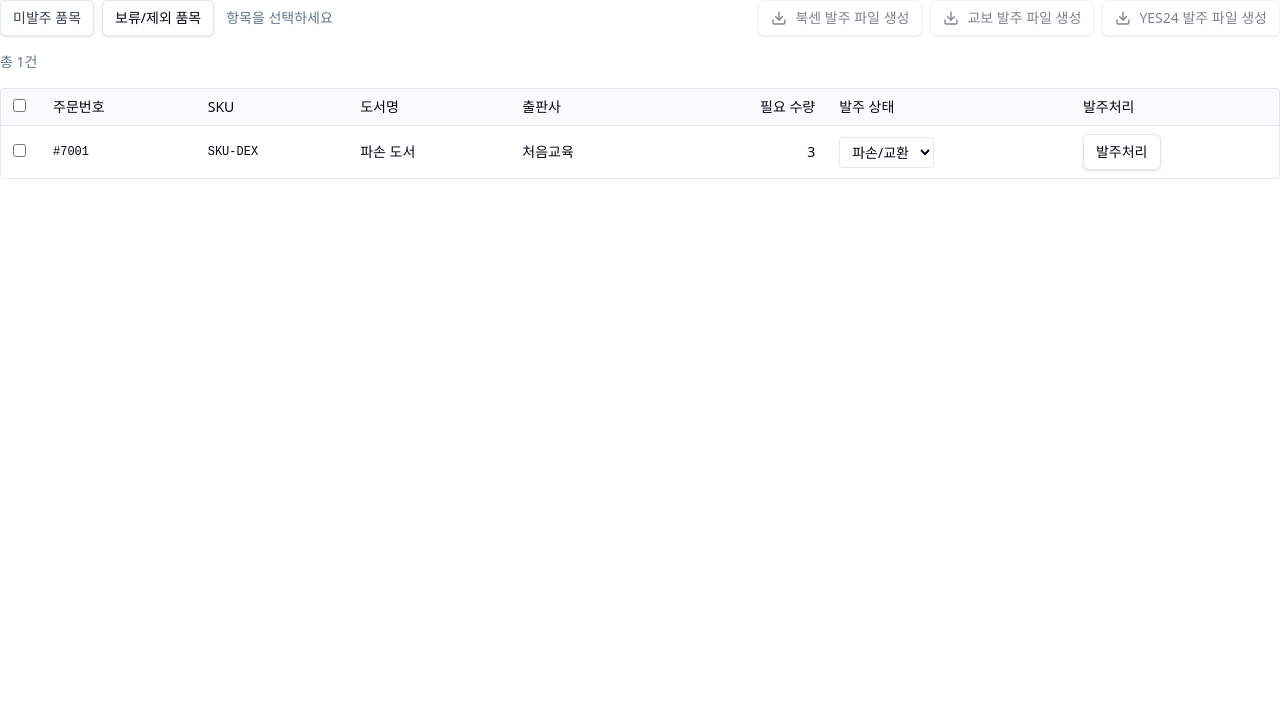
Test: UnorderedItemsTab — 발주처리 모달 (SPEC-ORDER-025) › AC-LCONF-108: damaged_exchange row modal shows the net (damaged_quantity-based) quantity, not the raw order quantity
This screenshot has width=1280, height=720.
Click the button "발주처리": (1122, 152) [1083,134,1160,170]
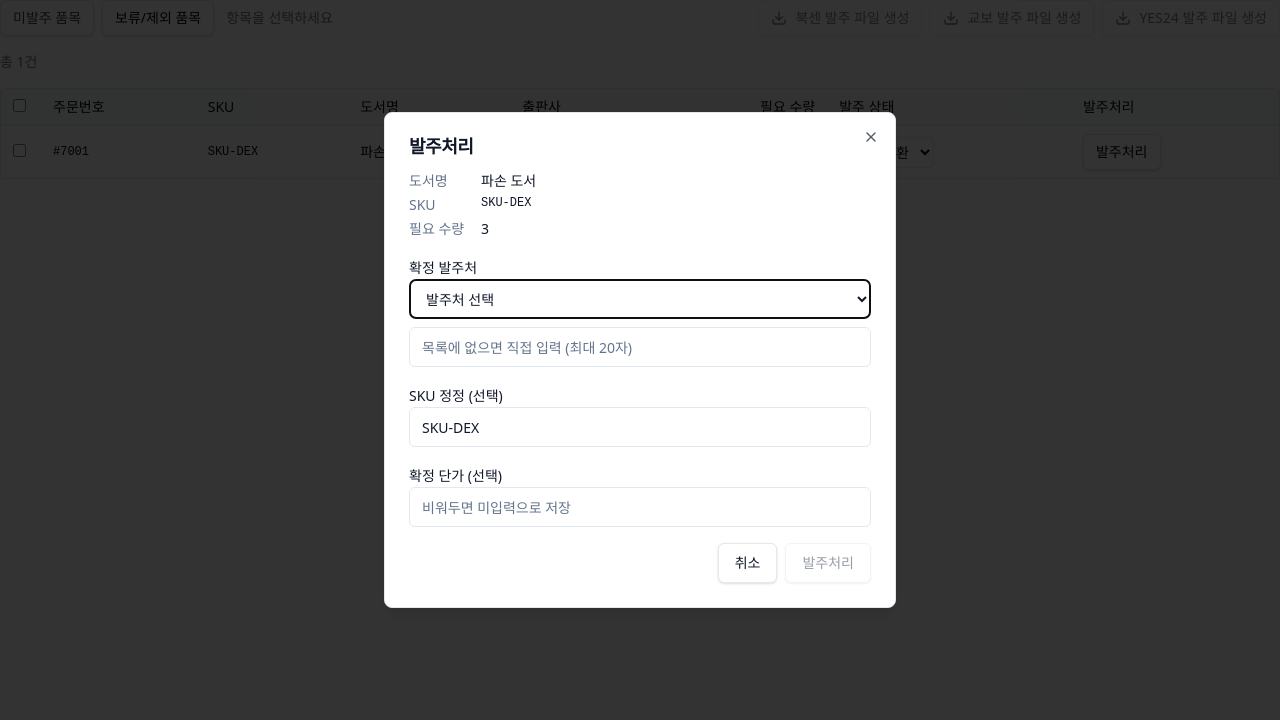
Expected: the text "3" is shown, [481,219,489,239]
